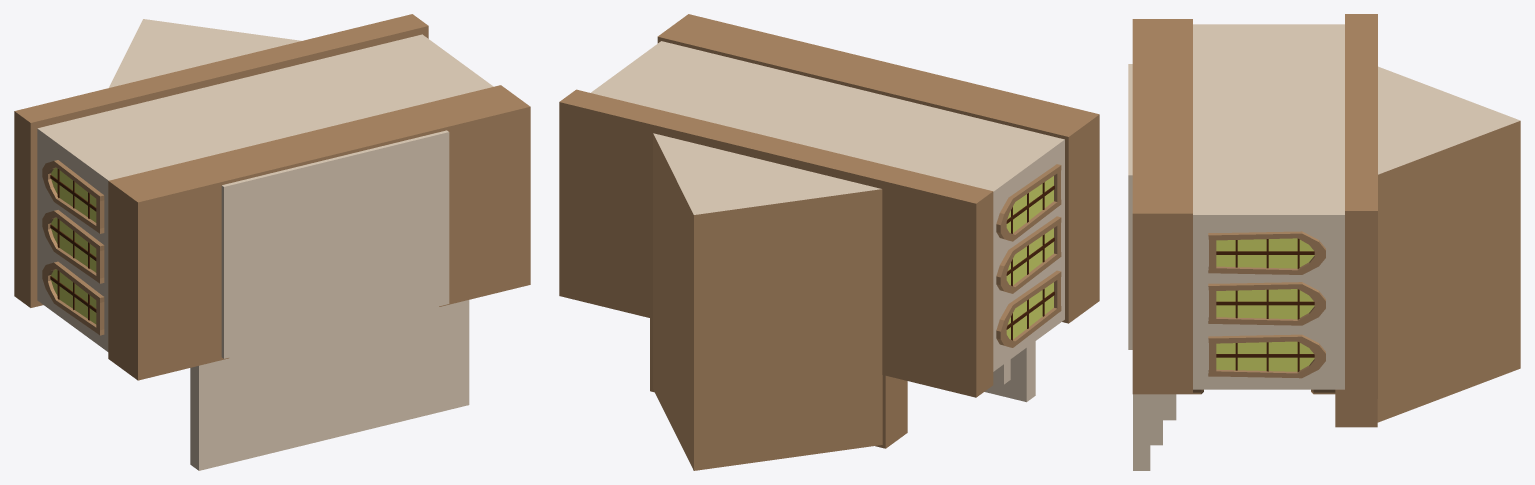
The model's file is Museum.fbx.
3 renders of one model, left to right at view 1: azimuth 30°, elevation 25°; view 2: azimuth 150°, elevation 25°; view 3: azimuth 270°, elevation 25°, orthographic. The views are drawn at different scales.
Visible parts, largest first — view 1: Cube; view 2: Cube; view 3: Cube.
Boxes of the visible parts, x1,y1,x2,y2 form: Cube: (14,14,530,470); Cube: (559,14,1099,470); Cube: (1128,14,1520,470).
Size of the model in its own units: 122 by 84.35 by 103.
